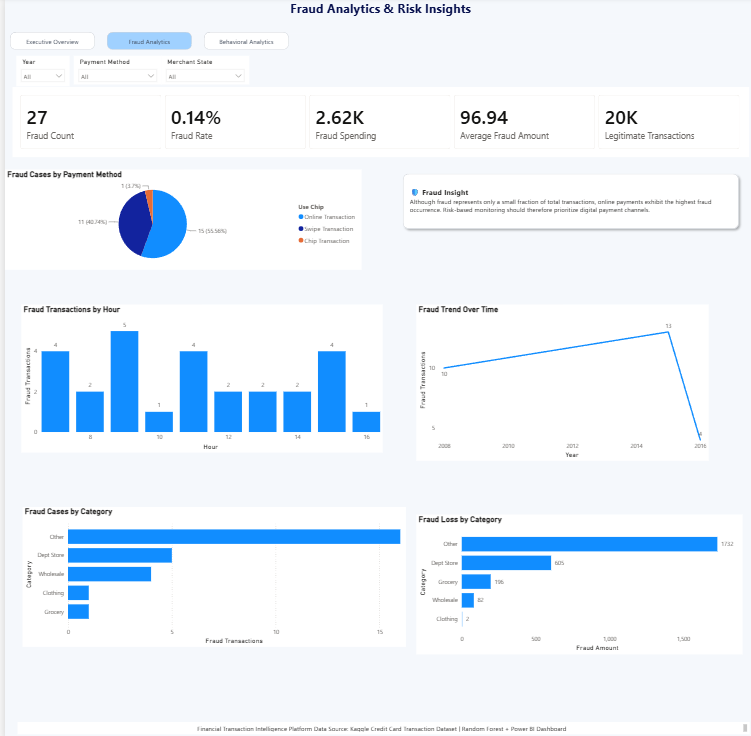

The page's visual inventory and layout, read from the dashboard file:
{"tool":"powerbi","page":{"name":"Fraud Analytics","canvas":[1600,1600],"ordinal":1},"visuals":[{"type":"textbox","box":[10,0,1590,78.6],"z":0},{"type":"cardVisual","fields":{"Data":["_Measures.Fraud Count","_Measures.Fraud Rate","_Measures.Fraud Spending","_Measures.Average Fraud Amount","_Measures.Legitimate Transactions"]},"box":[16,194,1580,150],"z":1000},{"type":"pieChart","title":"Fraud Cases by Payment Method","fields":{"Category":["cleaned_transactions.Use Chip"],"Y":["_Measures.Fraud Transactions"]},"box":[0,370,765,215],"z":2000},{"type":"columnChart","fields":{"Category":["cleaned_transactions.Hour"],"Y":["_Measures.Fraud Transactions"]},"box":[35,660,775,317.5],"z":3000},{"type":"lineChart","title":"Fraud Trend Over Time","fields":{"Y":["_Measures.Fraud Transactions"],"Category":["cleaned_transactions.Year"]},"box":[882.5,660,627.5,335],"z":4000},{"type":"clusteredBarChart","title":"Fraud Cases by Category","fields":{"Category":["cleaned_transactions.Category"],"Y":["_Measures.Fraud Transactions"]},"box":[37.5,1092.5,822.5,300],"z":5000},{"type":"slicer","title":"Year","fields":{"Values":["cleaned_transactions.Year"]},"box":[22.9,127.1,114.3,65.7],"z":8000},{"type":"slicer","title":"Payment Method","fields":{"Values":["cleaned_transactions.Use Chip"]},"box":[147.1,127.1,188.6,61.4],"z":9000},{"type":"clusteredBarChart","title":"Fraud Loss by Category","fields":{"Category":["cleaned_transactions.Category"],"Y":["_Measures.Fraud Amount"]},"box":[882.5,1110,700,300],"z":10000},{"type":"slicer","fields":{"Values":["cleaned_transactions.Merchant State"]},"box":[335.7,127.1,188.6,61.4],"z":11000},{"type":"pageNavigator","box":[10,74.3,600,38.6],"z":11001},{"type":"textbox","box":[0,1770,1600,30],"z":11002},{"type":"shape","box":[844,370,738,136],"z":11003},{"type":"textbox","box":[862,402,700,86],"z":11004},{"type":"textbox","box":[26,1554,1570,26],"z":11005}]}

Visuals, with their boxes in screenshot pixels (x1, y1, x2, y2), scaled from the page's 1600x1600 canvas onto the 751x736 screenshot:
textbox: select_region(5, 0, 750, 36)
cardVisual - _Measures.Fraud Count x _Measures.Fraud Rate: select_region(8, 89, 749, 158)
"Fraud Cases by Payment Method" pieChart: select_region(0, 170, 359, 269)
columnChart - cleaned_transactions.Hour x _Measures.Fraud Transactions: select_region(16, 304, 380, 450)
"Fraud Trend Over Time" lineChart: select_region(414, 304, 709, 458)
"Fraud Cases by Category" clusteredBarChart: select_region(18, 503, 404, 641)
"Year" slicer: select_region(11, 58, 64, 89)
"Payment Method" slicer: select_region(69, 58, 158, 87)
"Fraud Loss by Category" clusteredBarChart: select_region(414, 511, 743, 649)
slicer - cleaned_transactions.Merchant State: select_region(158, 58, 246, 87)
pageNavigator: select_region(5, 34, 286, 52)
shape: select_region(396, 170, 743, 233)
textbox: select_region(405, 185, 733, 224)
textbox: select_region(12, 715, 749, 727)
